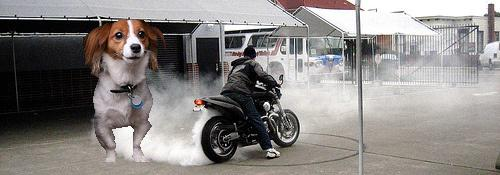tampered: (84, 20, 166, 162)
